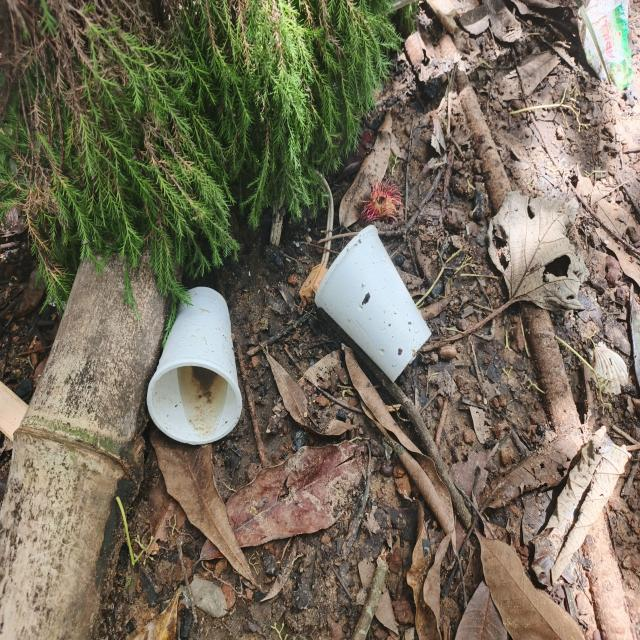plastic: (312, 218, 436, 392), (144, 275, 248, 453)
